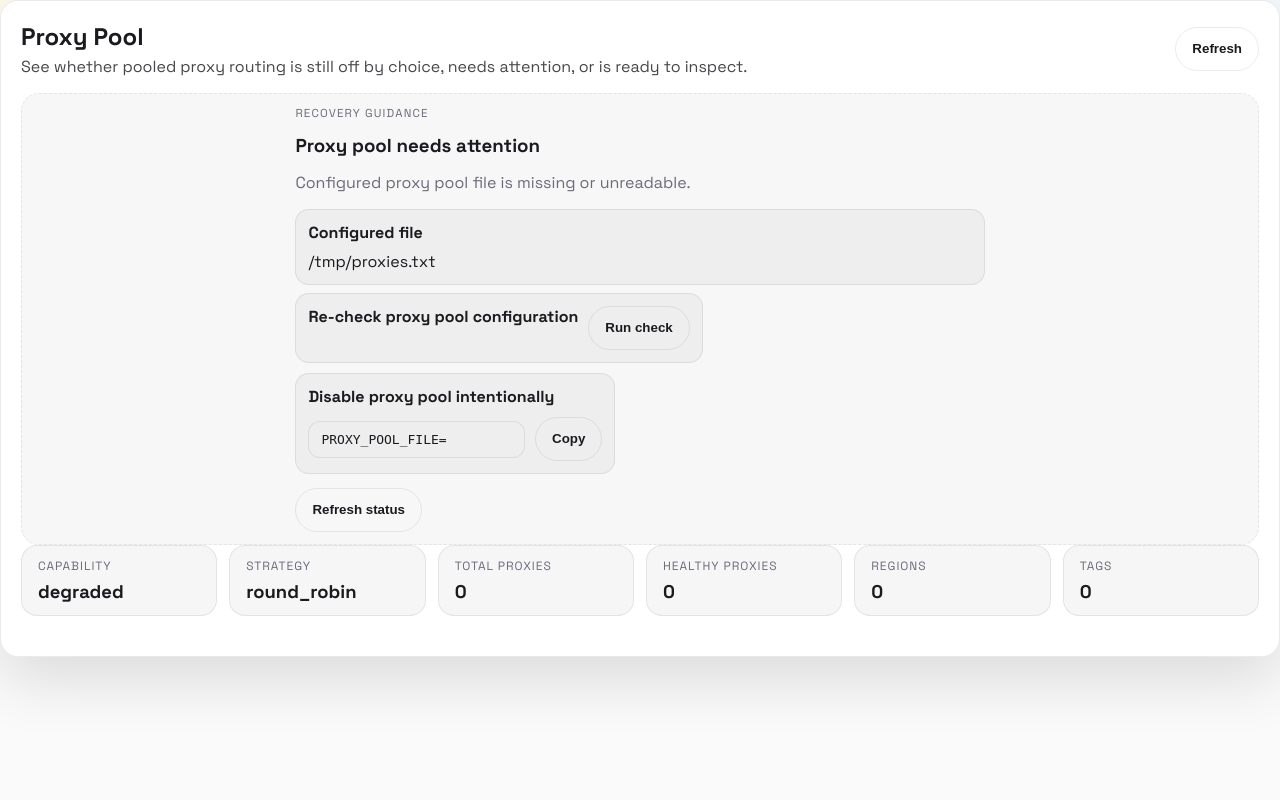
Test: ProxyPoolStatusPanel › renders degraded health guidance and runs inline diagnostics
Expected: the heading "Proxy pool needs attention" is shown, [295,134,540,157]
Expected: the text "Configured file" is shown, [308,222,423,243]
Click the button with aria-label "Re-check proxy pool configuration": (639, 328) [588,306,690,350]
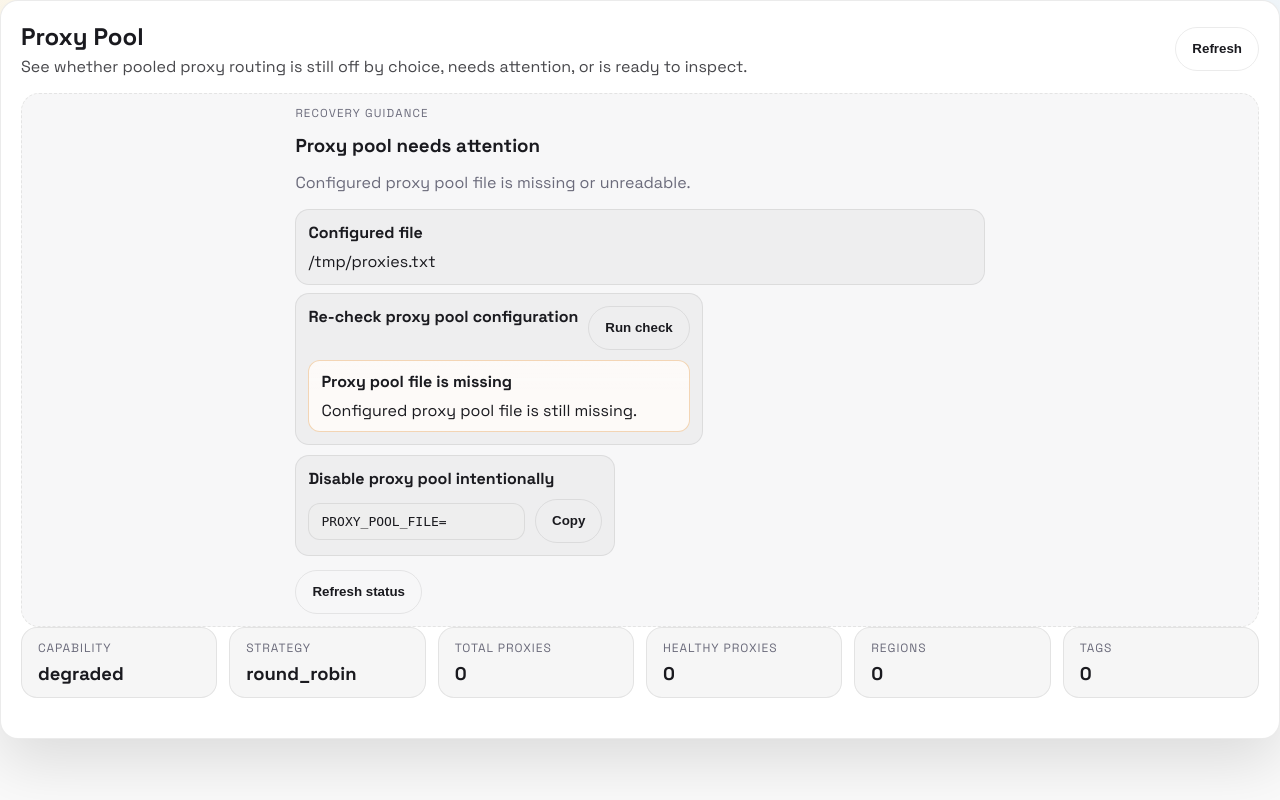
Now the text "Configured proxy pool file is still missing." is shown, box [321,400,677,421]
